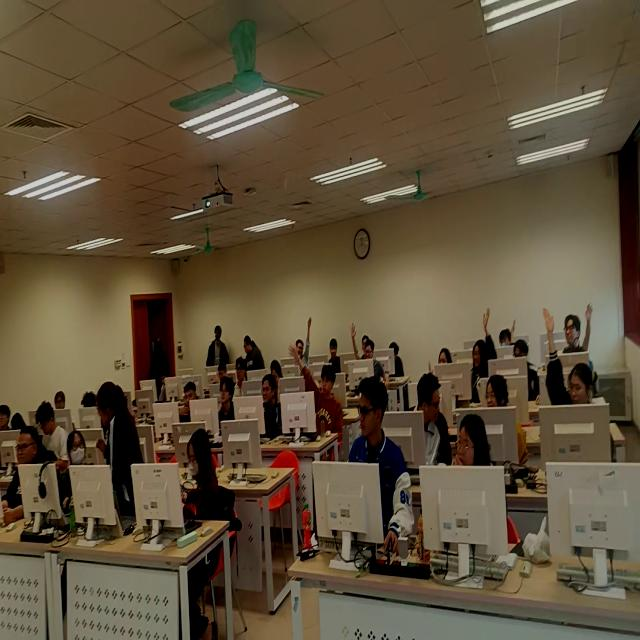raise_hand: (545, 309, 596, 467), (288, 348, 343, 456), (467, 306, 498, 401), (348, 325, 385, 394), (561, 303, 596, 371), (257, 372, 285, 439), (291, 315, 315, 373), (495, 318, 517, 364)
raise_head: (347, 384, 404, 543), (436, 419, 495, 540), (1, 427, 57, 531), (434, 342, 458, 399), (214, 379, 238, 436), (326, 338, 346, 375), (234, 357, 249, 403), (52, 394, 71, 419), (1, 403, 14, 437)
stand: (99, 383, 143, 528), (148, 339, 173, 405), (247, 337, 266, 390), (207, 329, 226, 378)
using_computer: (171, 423, 222, 551), (511, 340, 540, 400), (37, 407, 68, 463), (167, 387, 200, 431), (382, 343, 404, 389), (145, 373, 174, 404), (208, 365, 226, 400)
